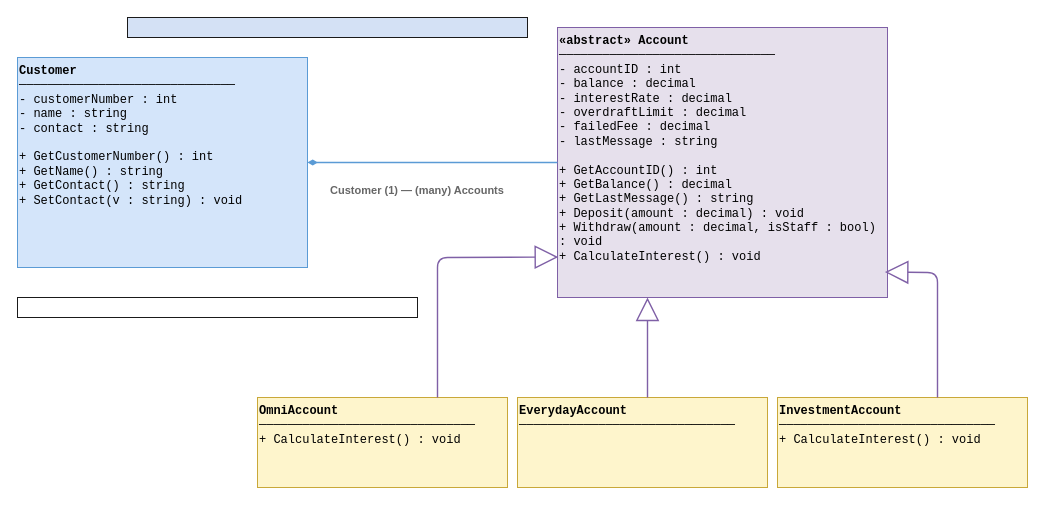
This 1045x505 diagram has some shape labels left out. Here are the shapes that lost their labels. From the top down, the centre of each, then its label:
At pixel 327 27: "Composition: Customer owns Accounts".
At pixel 217 307: "Inheritance is shown with child classes extending to base Account methods".
